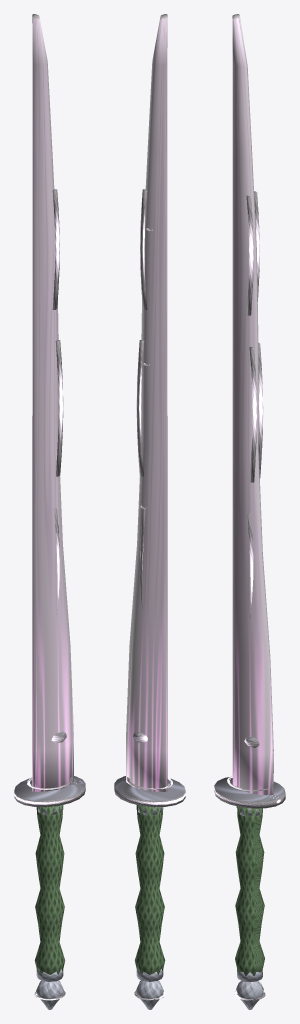
File: sword_07_moonlit_lotus.glb
3 views of the same model, side by side, from view 1: azimuth 30°, elevation 25°; view 2: azimuth 150°, elevation 25°; view 3: azimuth 330°, elevation 25° (orthographic).
Parts seen in each view (by area): view 1: Blade_MoonlitLotusBlade, Grip_LotusStemWrap, Petals_LotusPetals, Disc_FullMoon, Pommel_LotusBud, Ferrule_MoonSilver; view 2: Blade_MoonlitLotusBlade, Grip_LotusStemWrap, Petals_LotusPetals, Disc_FullMoon, Pommel_LotusBud, Ferrule_MoonSilver; view 3: Blade_MoonlitLotusBlade, Grip_LotusStemWrap, Petals_LotusPetals, Disc_FullMoon, Pommel_LotusBud, Ferrule_MoonSilver.
Part boxes in pixels (box(x1,y1,x2,y2)): Blade_MoonlitLotusBlade: box(32, 14, 73, 791); Grip_LotusStemWrap: box(34, 804, 65, 974); Petals_LotusPetals: box(52, 189, 63, 614); Disc_FullMoon: box(14, 776, 85, 807); Pommel_LotusBud: box(34, 980, 65, 1009); Ferrule_MoonSilver: box(36, 805, 63, 981); Blade_MoonlitLotusBlade: box(126, 14, 167, 791); Grip_LotusStemWrap: box(134, 804, 165, 974); Petals_LotusPetals: box(136, 189, 147, 608); Disc_FullMoon: box(114, 776, 185, 807); Pommel_LotusBud: box(134, 980, 165, 1009); Ferrule_MoonSilver: box(136, 805, 163, 981); Blade_MoonlitLotusBlade: box(232, 14, 273, 794); Grip_LotusStemWrap: box(235, 806, 264, 976); Petals_LotusPetals: box(246, 191, 263, 617); Disc_FullMoon: box(214, 776, 285, 808); Pommel_LotusBud: box(234, 980, 265, 1009); Ferrule_MoonSilver: box(237, 806, 262, 982).
Bounding box in the file's own units: 0.1789 × 2.6 × 0.1374.
Materials: 1 (1 with a texture image).
